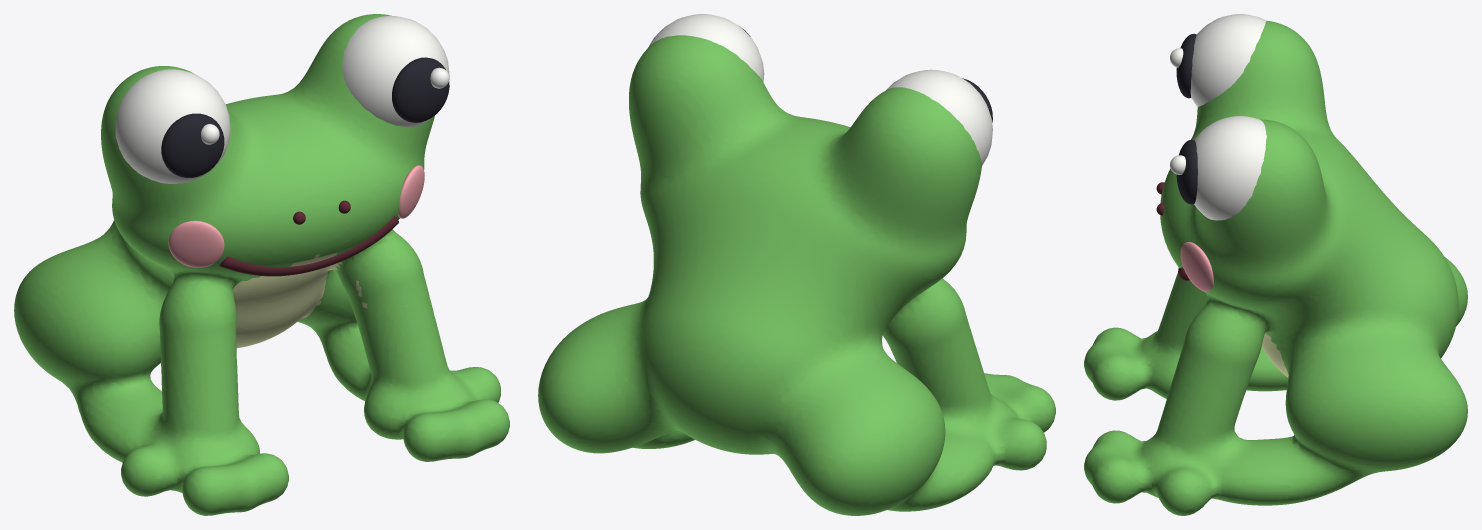
File: frog.glb
3 views of the same model, side by side, from view 1: azimuth 30°, elevation 25°; view 2: azimuth 150°, elevation 25°; view 3: azimuth 270°, elevation 25° (orthographic). The views are drawn at different scales.
Parts seen in each view (by area): view 1: FrogBody, FrogEye_R, FrogEye_L, FrogPupil_R, FrogPupil_L, FrogCheek_R, FrogMouth, FrogCheek_L; view 2: FrogBody, FrogEye_R, FrogEye_L; view 3: FrogBody, FrogEye_L, FrogEye_R, FrogCheek_L, FrogPupil_L, FrogPupil_R.
Part boxes in pixels (x1,y1,x2,y2): FrogBody: [14, 14, 509, 515]; FrogEye_R: [115, 69, 230, 183]; FrogEye_L: [342, 16, 449, 126]; FrogPupil_R: [161, 113, 224, 177]; FrogPupil_L: [392, 57, 449, 122]; FrogCheek_R: [168, 220, 224, 267]; FrogMouth: [219, 216, 398, 276]; FrogCheek_L: [398, 165, 424, 218]; FrogBody: [538, 35, 1055, 515]; FrogEye_R: [886, 69, 992, 165]; FrogEye_L: [648, 14, 764, 82]; FrogBody: [1084, 20, 1467, 515]; FrogEye_L: [1194, 116, 1266, 220]; FrogEye_R: [1190, 14, 1266, 106]; FrogCheek_L: [1180, 242, 1213, 291]; FrogPupil_L: [1176, 139, 1197, 204]; FrogPupil_R: [1176, 33, 1196, 98].
Bounding box in the file's own units: 1.02 × 1.01 × 0.9515.
